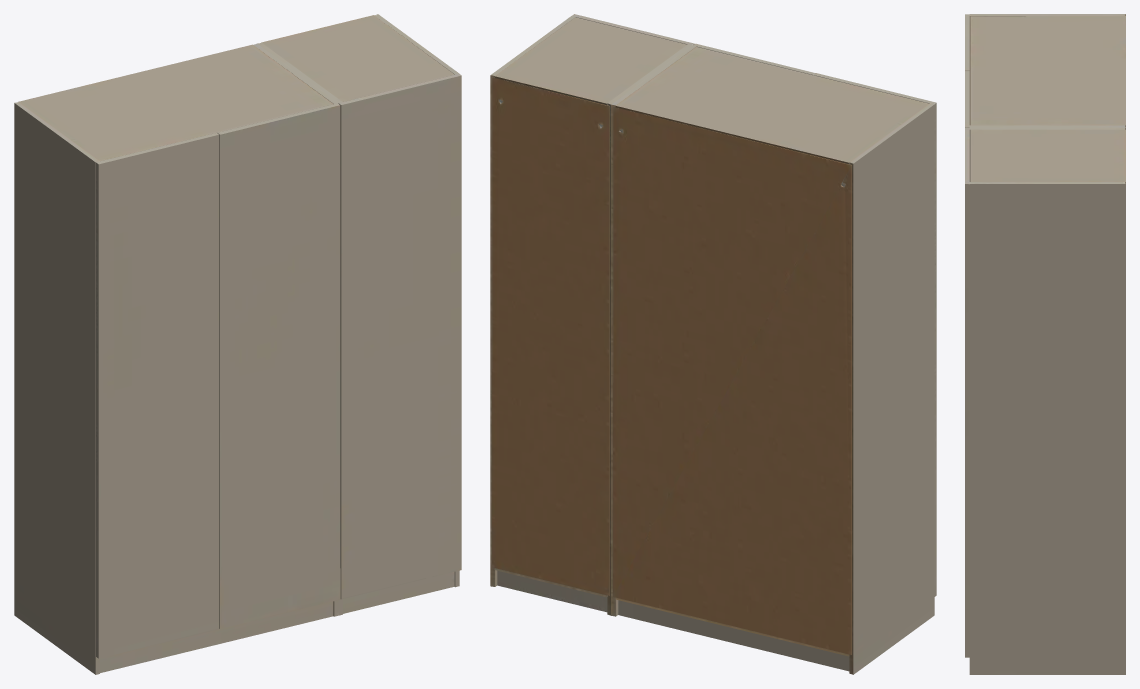
The picture shows the model from 3 angles, left to right: view 1: azimuth 30°, elevation 25°; view 2: azimuth 150°, elevation 25°; view 3: azimuth 270°, elevation 25°; orthographic projection. The views are drawn at different scales.
Bounding box in the file's own units: 1.49 × 2.01 × 0.5976.
1 material, 1 textured.
